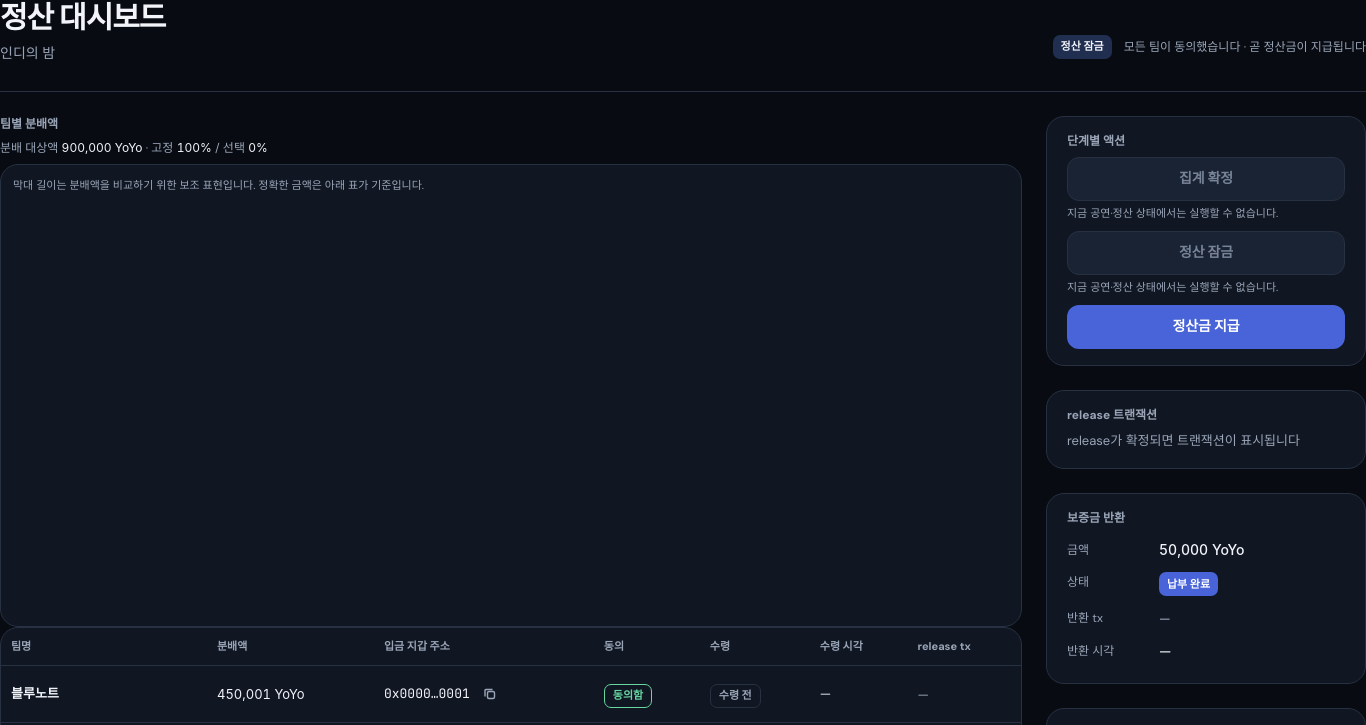
it: SettlementDashboard 지급 완료 모달 › 수동 지급 job이 CONFIRMED면 한 번 띄운다
The image size is (1366, 725).
What coordinates should you click on to do the following:
click the button "정산금 지급"
I would click on:
 (1206, 327)
Its box is top-left (1067, 305), bottom-right (1345, 349).
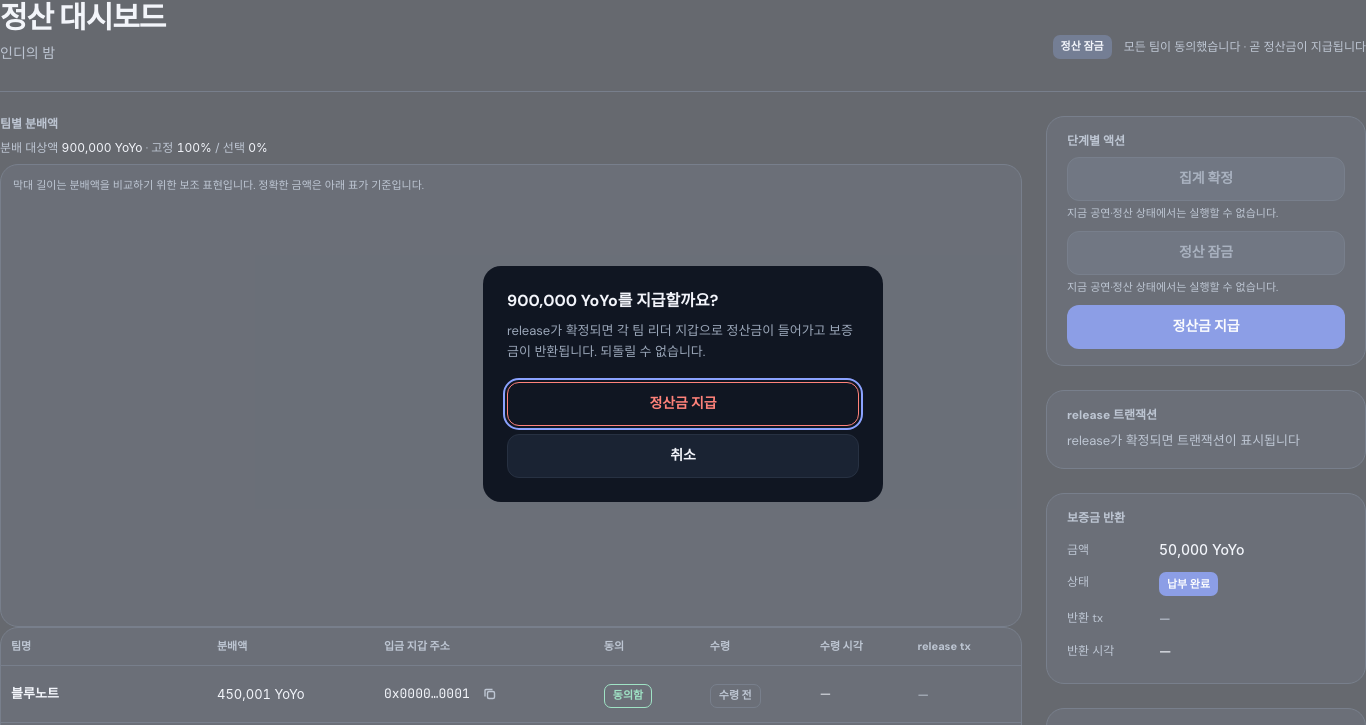
What coordinates should you click on to do the following:
click the button "정산금 지급"
I would click on:
 (683, 404)
Its box is top-left (507, 382), bottom-right (859, 426).
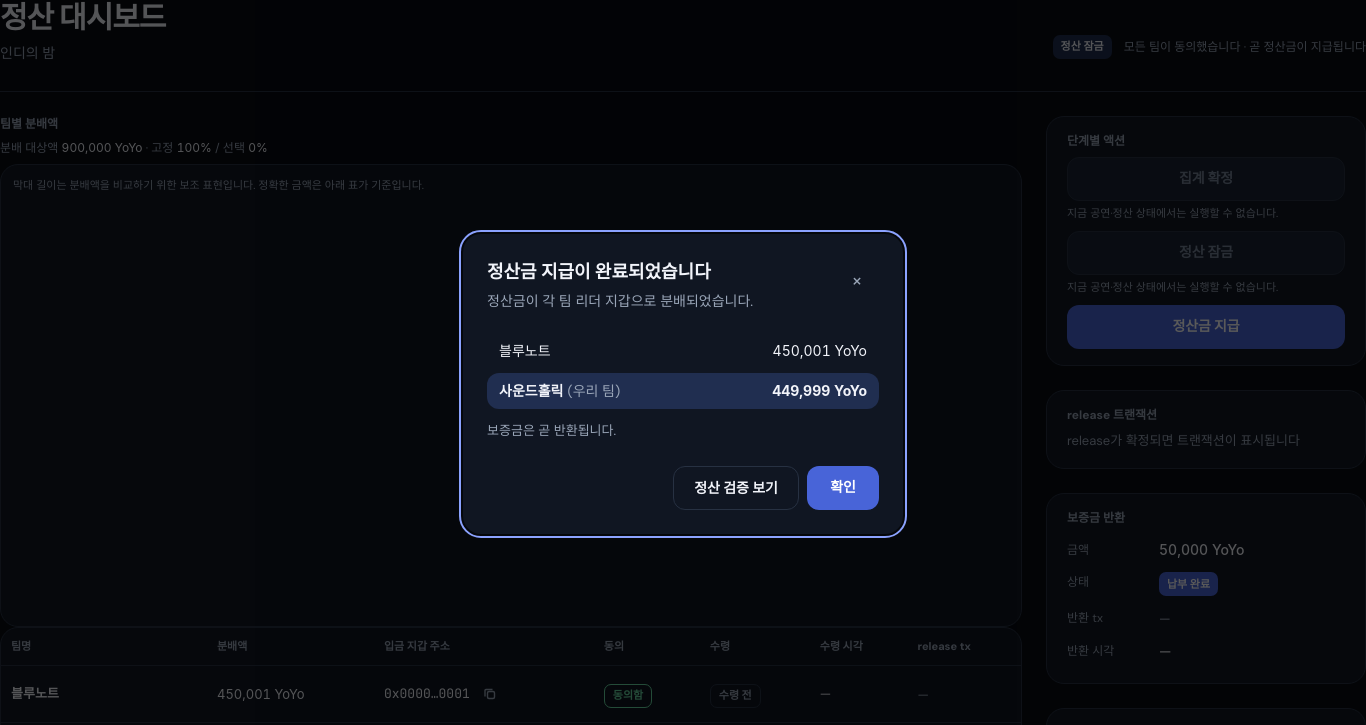
expect the text "정산금이 각 팀 리더 지갑으로 분배되었습니다." is shown: met, box top-left (487, 290), bottom-right (753, 313)
